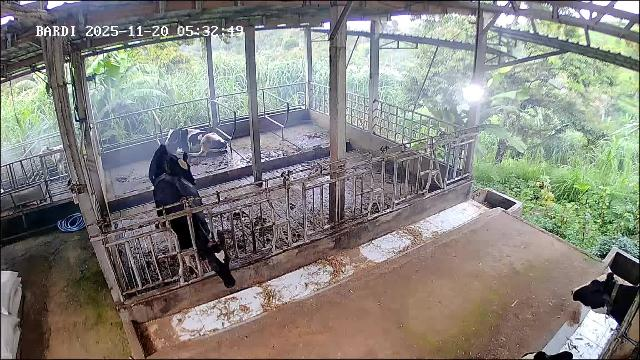mounting: (148, 144, 196, 215)
